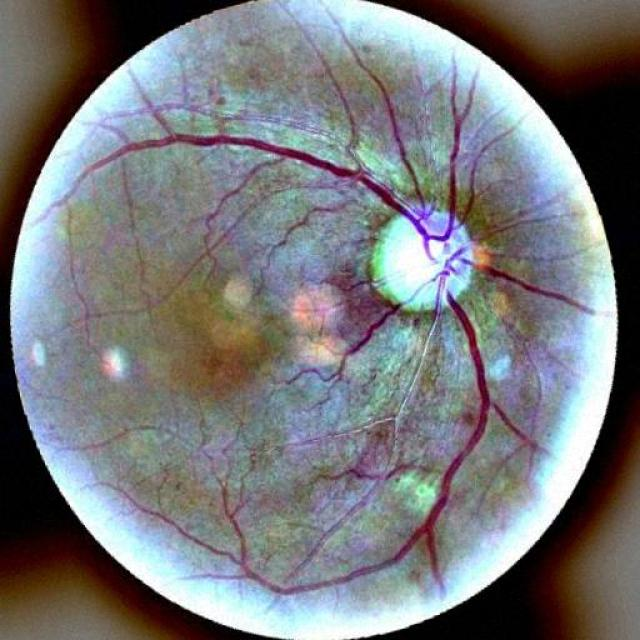Macula: (180, 325, 252, 390)
Nerves: (79, 39, 592, 561), (215, 110, 334, 141), (274, 200, 349, 248)
Optic Disk: (378, 211, 471, 308)
